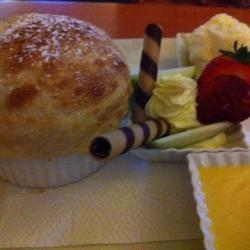bread: (2, 12, 137, 186)
icecream: (143, 55, 209, 147)
